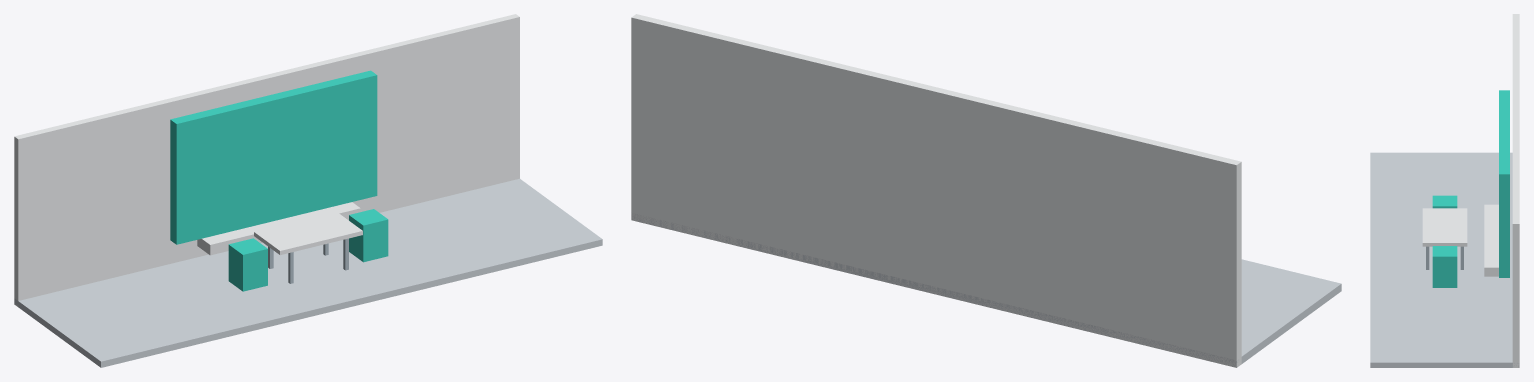
The picture shows the model from 3 angles, left to right: view 1: azimuth 30°, elevation 25°; view 2: azimuth 150°, elevation 25°; view 3: azimuth 270°, elevation 25°; orthographic projection. The views are drawn at different scales.
Parts seen in each view (by area): view 1: Exhibition Booth Concept; view 2: Exhibition Booth Concept; view 3: Exhibition Booth Concept.
Part boxes in pixels (x1,y1,x2,y2): Exhibition Booth Concept: (14, 14, 602, 367); Exhibition Booth Concept: (631, 14, 1341, 367); Exhibition Booth Concept: (1370, 14, 1519, 367).
Bounding box in the file's own units: 10 × 3.2 × 3.
